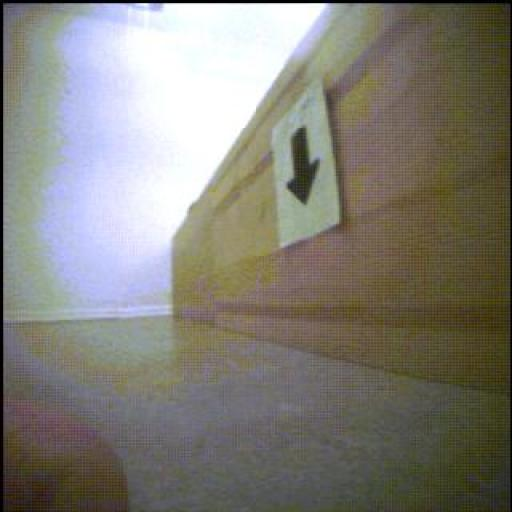arrow: (287, 127, 321, 206)
